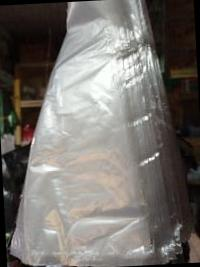Plastik: (11, 0, 179, 266)
